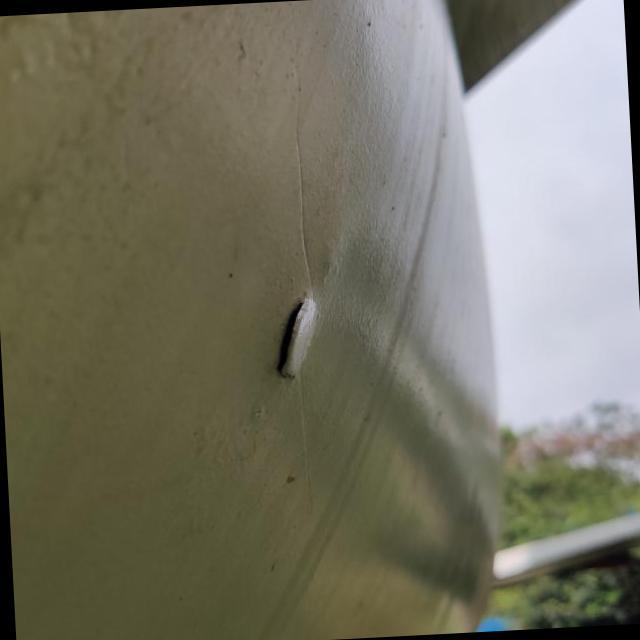Rupture: (254, 281, 348, 394)
